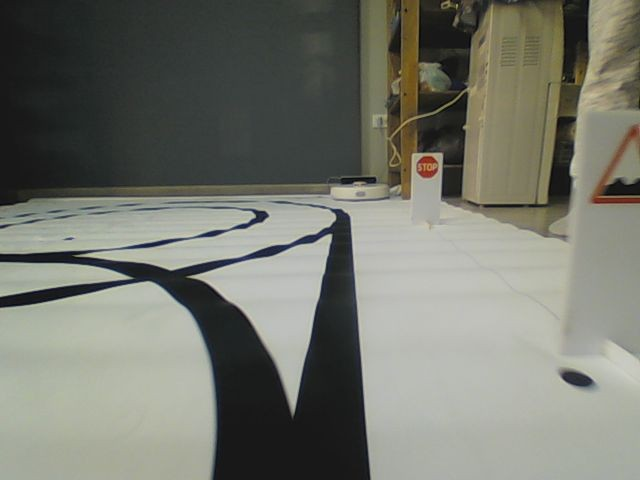Stop: (414, 154, 439, 179)
